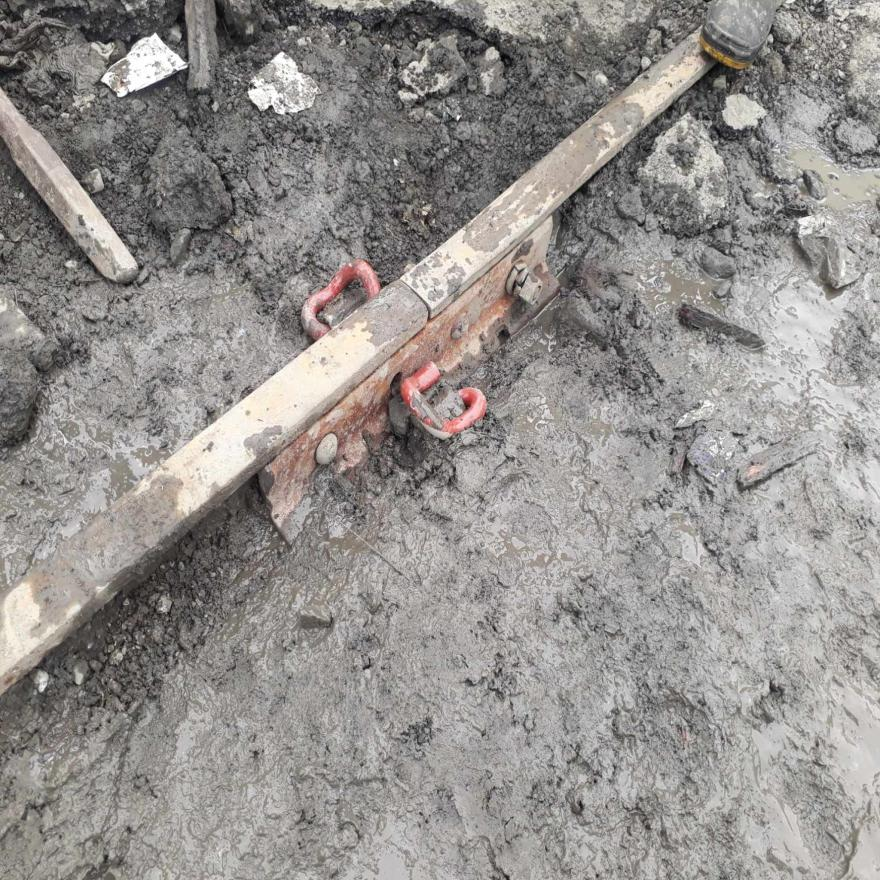railway-gap: (360, 220, 472, 366)
